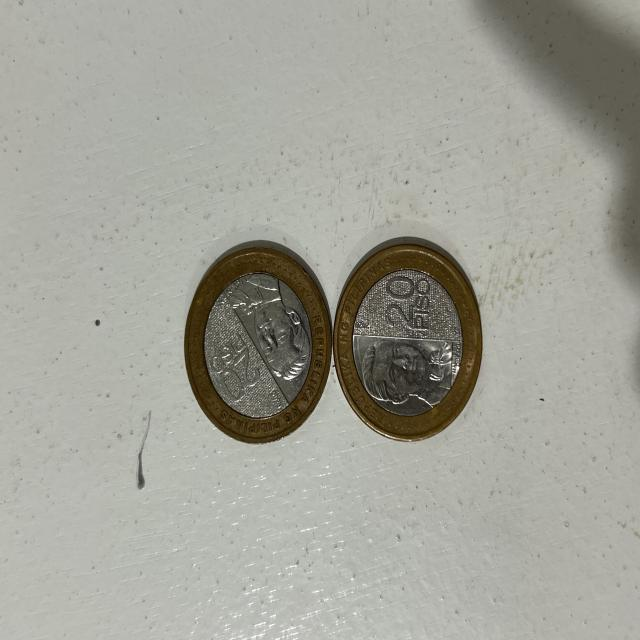20_New_Front: (221, 354, 258, 402), (381, 275, 415, 326)
